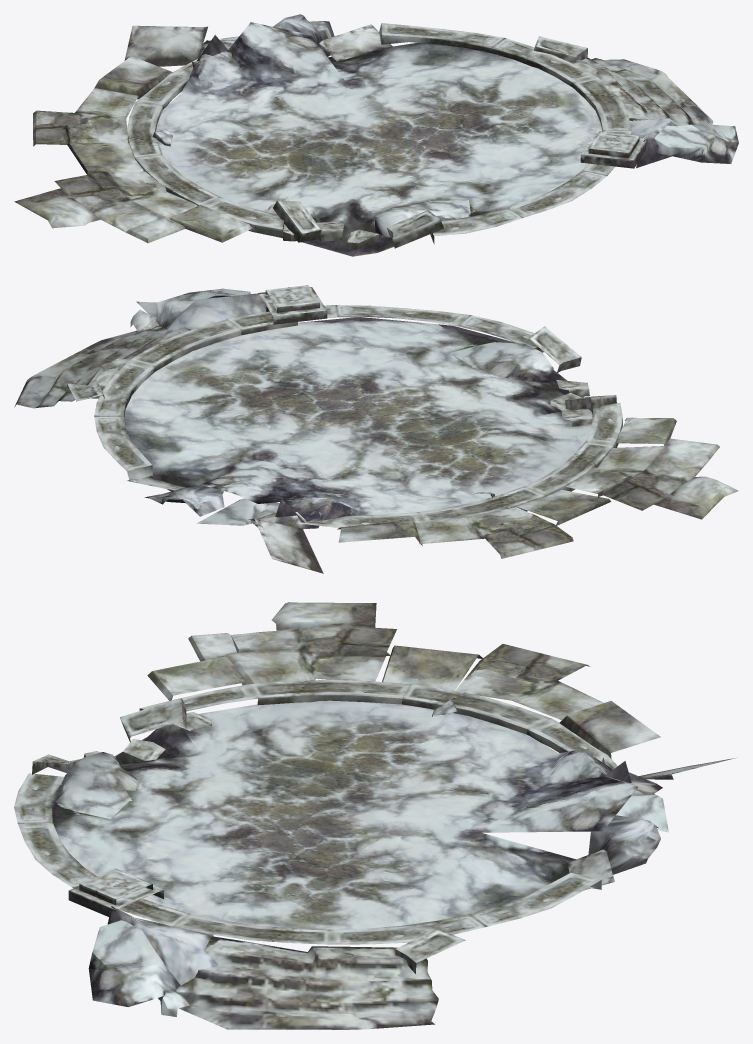
Rendered from S_Build_Snowland204_1.FBX.
3 renders of one model, top to bottom at view 1: azimuth 30°, elevation 25°; view 2: azimuth 150°, elevation 25°; view 3: azimuth 270°, elevation 25°, orthographic. The views are drawn at different scales.
Visible parts, largest first — view 1: S_Build_Snowland204_1; view 2: S_Build_Snowland204_1; view 3: S_Build_Snowland204_1.
Boxes of the visible parts, box(x1,y1,x2,y2) form: S_Build_Snowland204_1: box(14, 14, 738, 256); S_Build_Snowland204_1: box(14, 285, 738, 573); S_Build_Snowland204_1: box(14, 602, 736, 1029).
Bounding box in the file's own units: 2532 × 193 × 1976.
